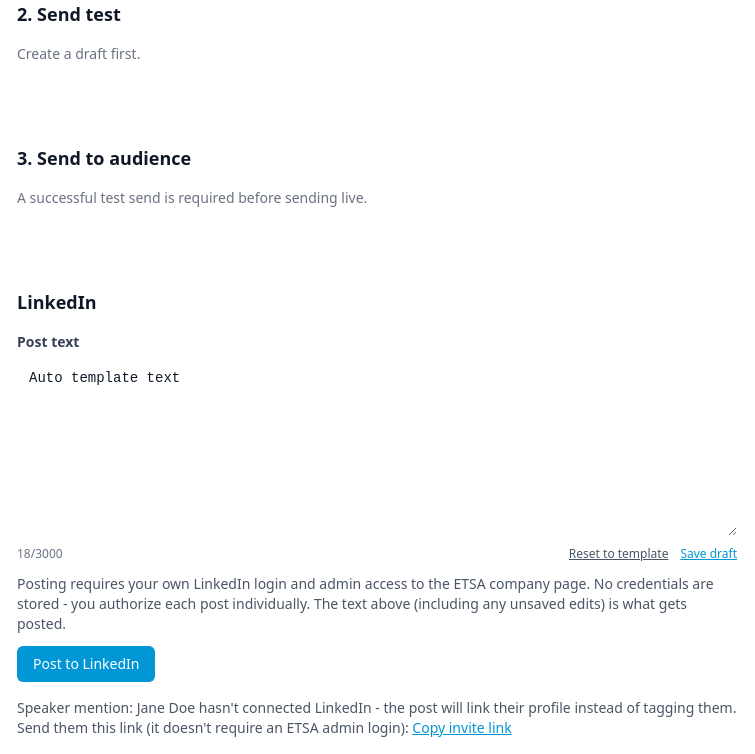
it: SocialMailingPage › saves an edited draft via the Save draft button
(page scrolled)
Replace the text in the text box showing "Auto template text" with "Edited text" at (377, 448), box x1=17 y1=360 x2=737 y2=536
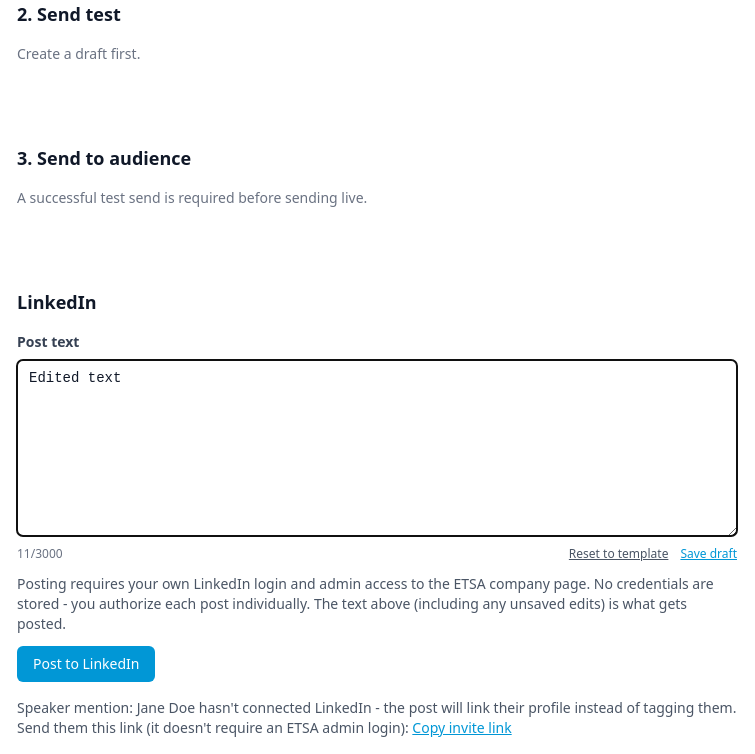
Click the button "Save draft" at (709, 554), box x1=680 y1=546 x2=737 y2=562
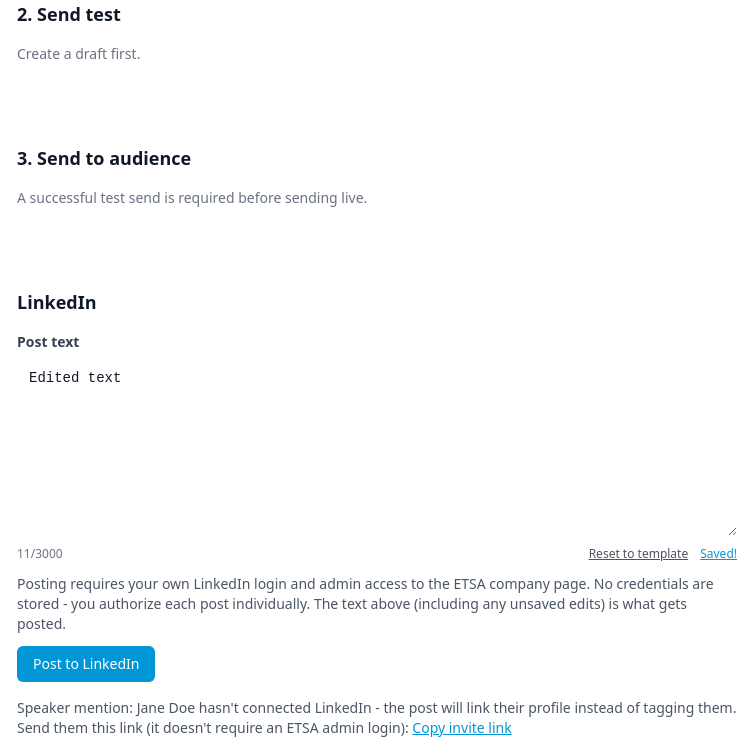
Check: the button "Saved!" is shown, box x1=700 y1=546 x2=737 y2=562
